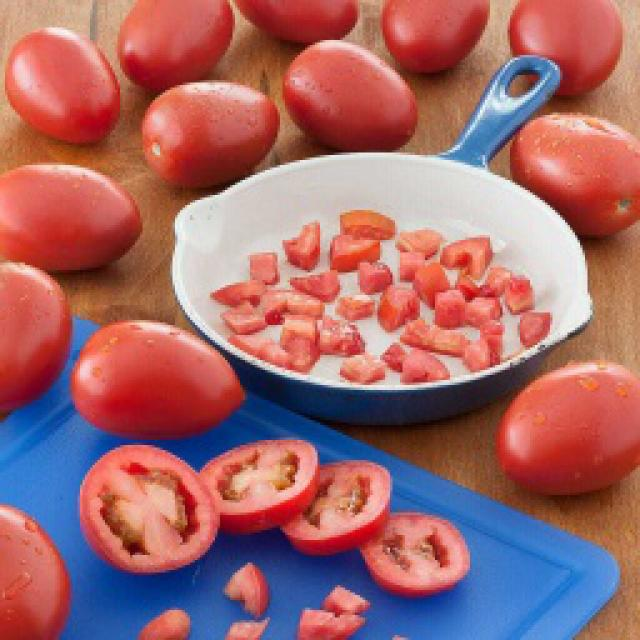tomato: (70, 322, 248, 442), (495, 362, 637, 500), (495, 115, 637, 237), (142, 80, 282, 192), (0, 165, 142, 275), (288, 40, 418, 155), (5, 28, 123, 148), (510, 0, 627, 102), (117, 0, 235, 98), (0, 263, 75, 415), (0, 507, 72, 637), (380, 0, 492, 78), (237, 0, 367, 46)
